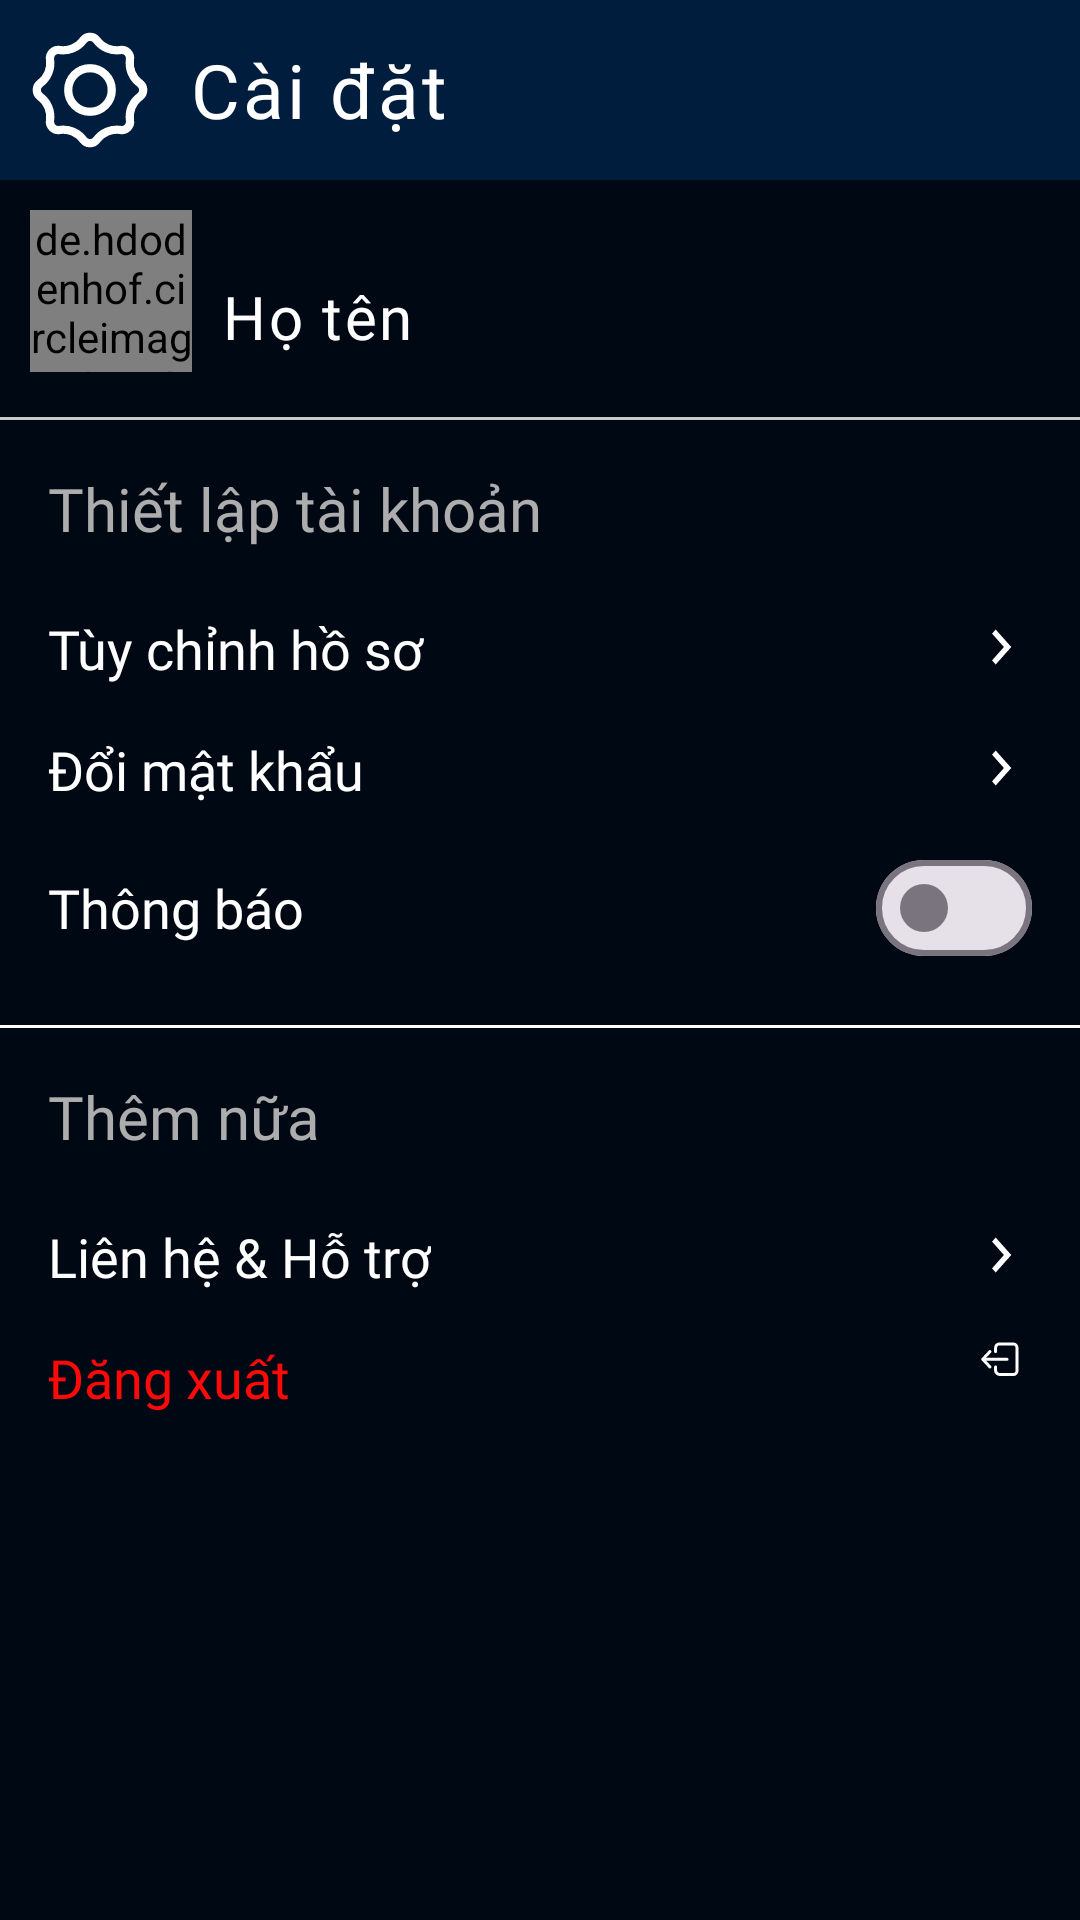

Icons on this 1080px×1920px Android screen, each with the point to tap as (x=x, y=y):
arrow setting: (x=1001, y=647), (x=1001, y=768), (x=1001, y=1255)
